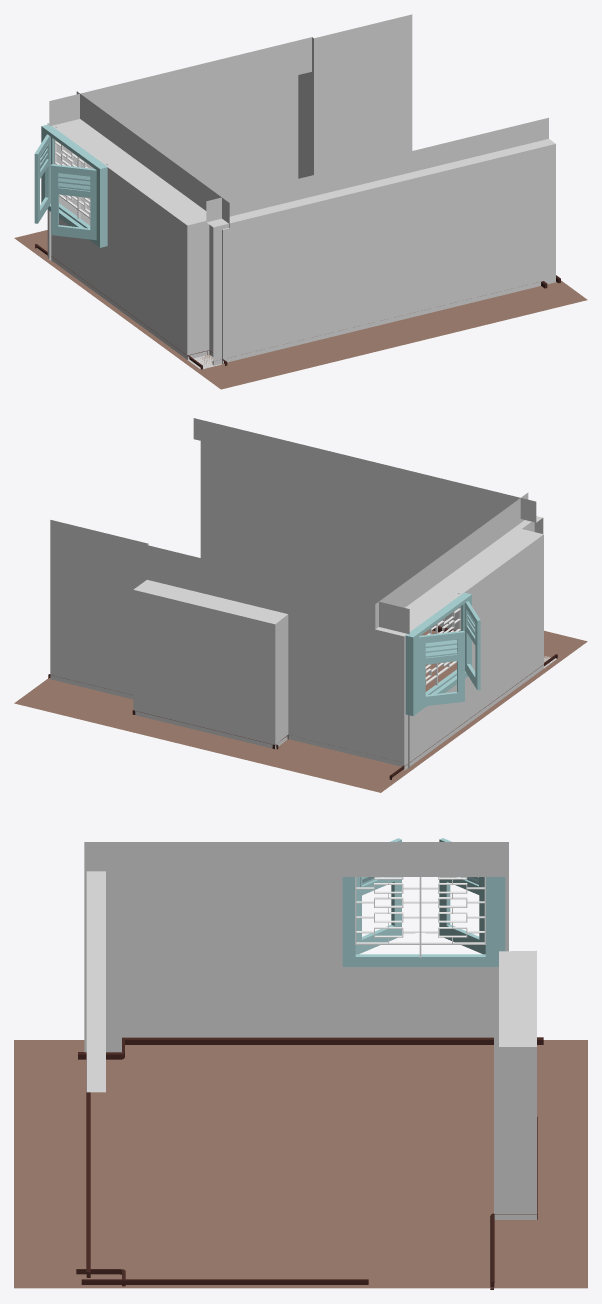
File: simple_room.glb
The picture shows the model from 3 angles, top to bottom: view 1: azimuth 30°, elevation 25°; view 2: azimuth 150°, elevation 25°; view 3: azimuth 270°, elevation 25°; orthographic projection. The views are drawn at different scales.
Parts seen in each view (by area): view 1: wall_l, wall_r, wall_b, wooden_floor, windows_frame, windows.001, windows, Plane; view 2: wall_r, wall_l, wall_b, wooden_floor, windows, windows_frame, windows.001, Plane; view 3: wooden_floor, wall_b, wall_r, windows_frame, wall_l, Plane, wooden_cover_b_3, wooden_cover_f, windows, windows.001, wooden_cover_r_3.
Part boxes in pixels (bbox=[...]): wall_l: bbox=[206, 117, 555, 365]; wall_r: bbox=[49, 14, 412, 260]; wall_b: bbox=[47, 91, 229, 369]; wooden_floor: bbox=[14, 230, 587, 389]; windows_frame: bbox=[41, 124, 107, 247]; windows.001: bbox=[51, 164, 96, 240]; windows: bbox=[34, 134, 50, 223]; Plane: bbox=[54, 140, 90, 218]; wall_r: bbox=[50, 520, 409, 768]; wall_l: bbox=[193, 418, 543, 630]; wall_b: bbox=[375, 492, 556, 770]; wooden_floor: bbox=[14, 630, 587, 792]; windows: bbox=[418, 630, 464, 706]; windows_frame: bbox=[405, 592, 471, 715]; windows.001: bbox=[465, 601, 480, 690]; Plane: bbox=[425, 606, 460, 685]; wooden_floor: bbox=[14, 1040, 587, 1288]; wall_b: bbox=[84, 842, 508, 1052]; wall_r: bbox=[494, 950, 536, 1219]; windows_frame: bbox=[342, 877, 505, 966]; wall_l: bbox=[86, 871, 105, 1092]; Plane: bbox=[355, 877, 485, 957]; wooden_cover_b_3: bbox=[122, 1037, 543, 1044]; wooden_cover_f: bbox=[81, 1279, 368, 1284]; windows: bbox=[439, 838, 485, 954]; windows.001: bbox=[355, 838, 401, 954]; wooden_cover_r_3: bbox=[86, 1052, 90, 1277].
Size of the model in its own units: 6.21 by 2.42 by 5.58.
